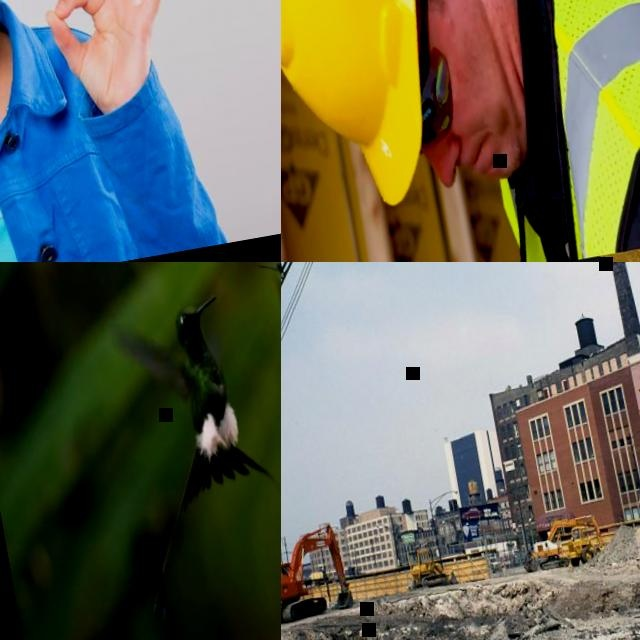Hardhat: (281, 0, 464, 224)
NO-Mask: (422, 0, 533, 187)
NO-Safety Vest: (0, 3, 138, 262)
Person: (281, 0, 640, 262), (0, 0, 223, 262)
Safety Vest: (453, 0, 640, 262)
machinery: (281, 523, 356, 627), (517, 512, 607, 573), (402, 541, 458, 591), (563, 522, 602, 566)
